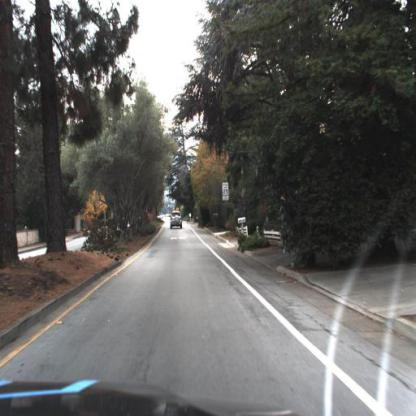car: (168, 209, 187, 233)
